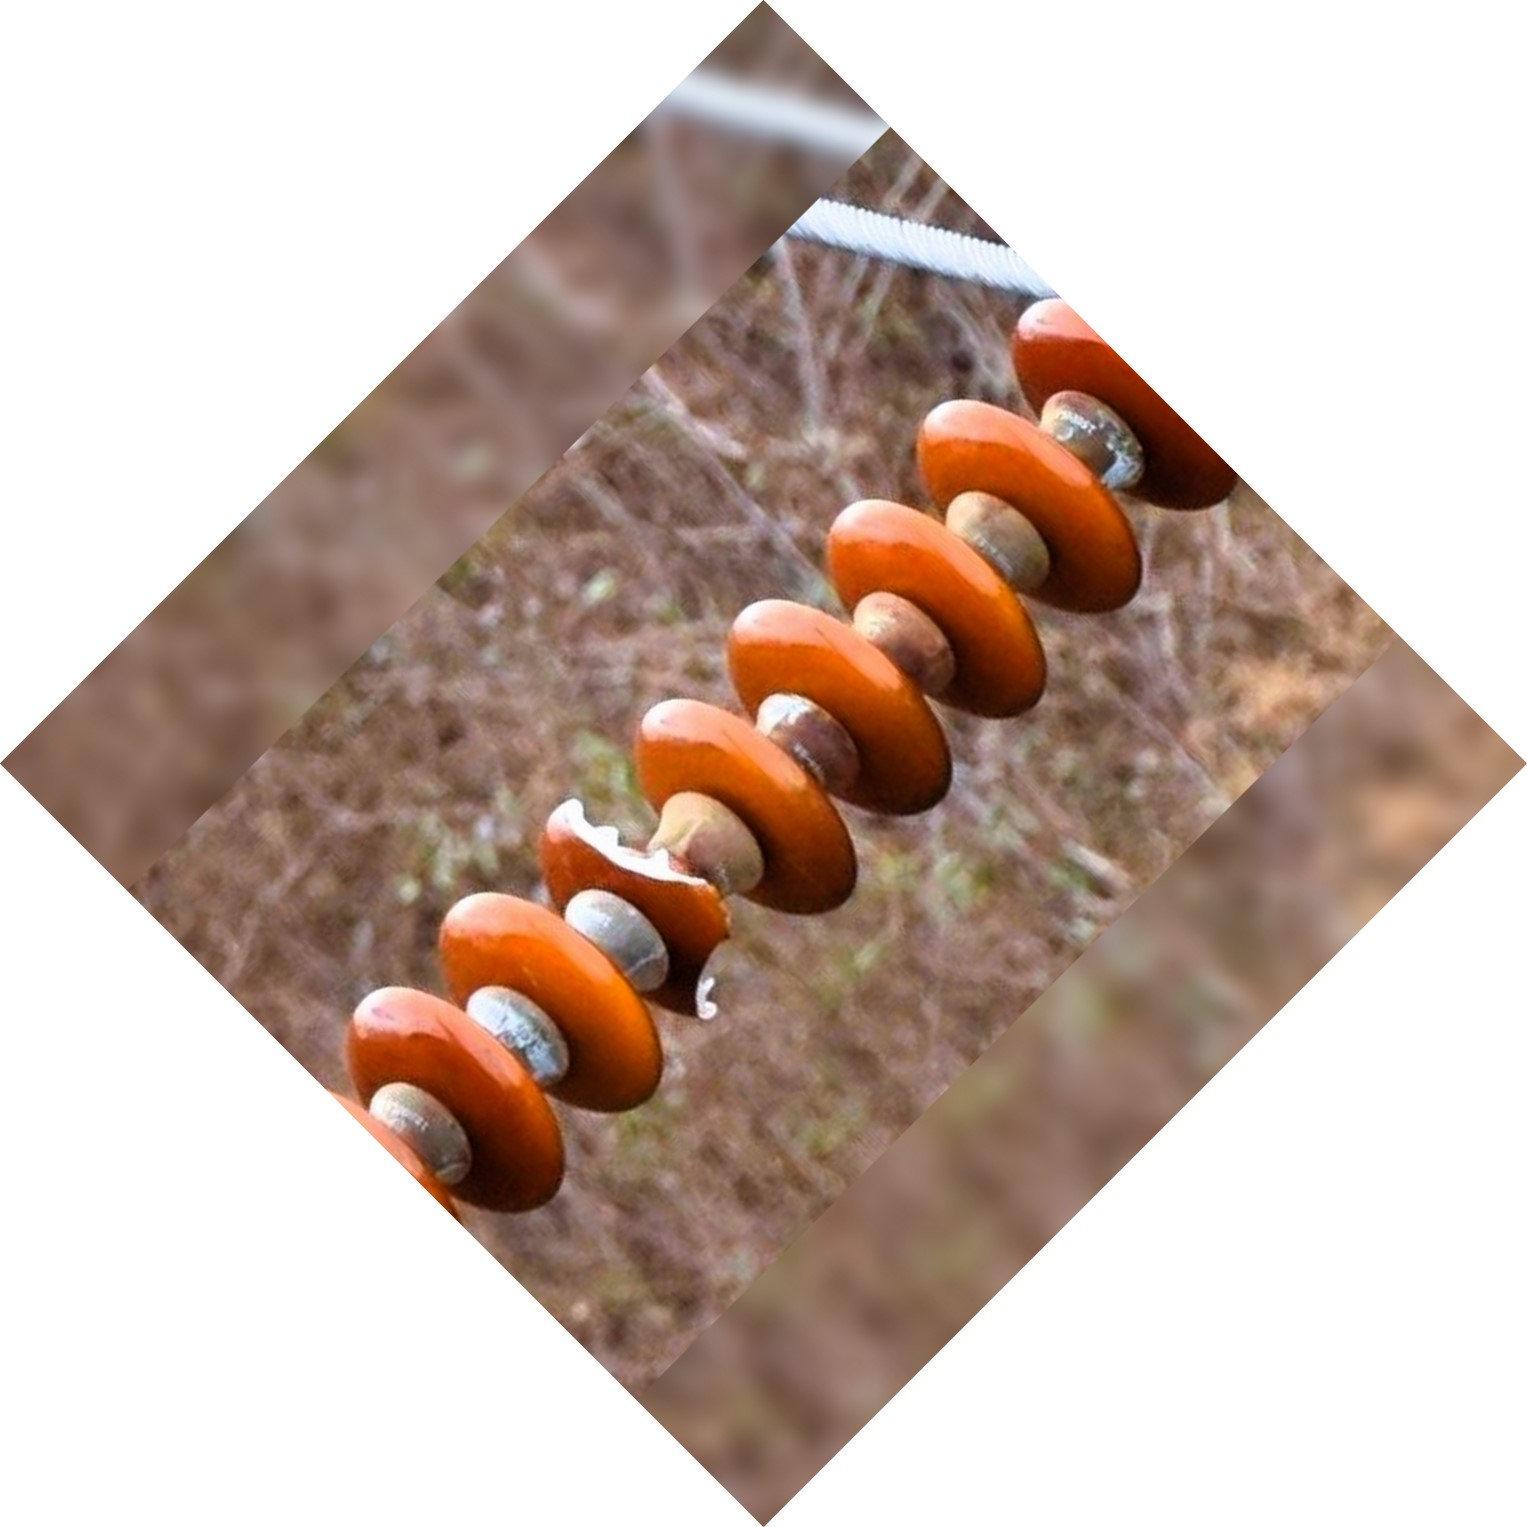insulator breakage: (520, 782, 755, 1017)
